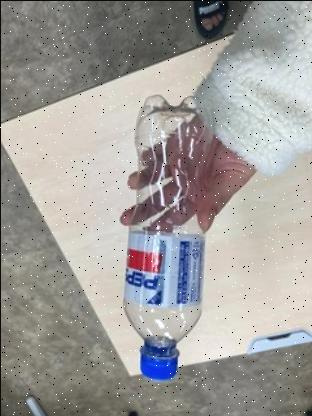Plastic Bottle: (119, 85, 212, 387)
